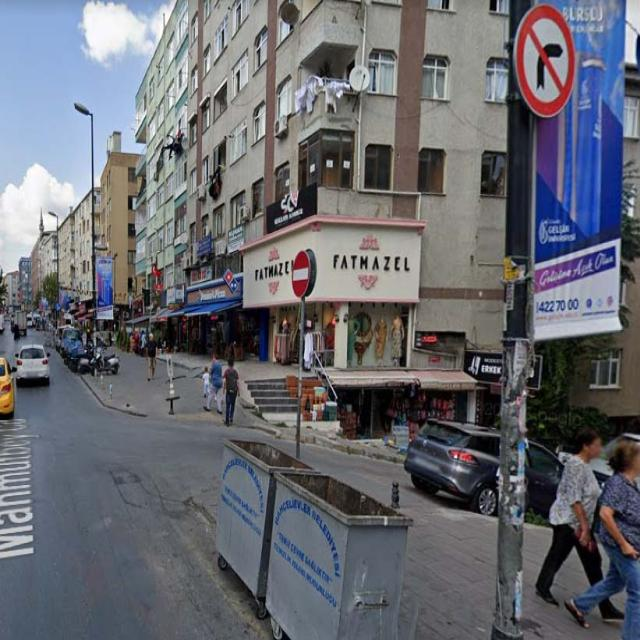girisyok: (292, 251, 310, 298)
sagadonulmez: (514, 5, 575, 118)
